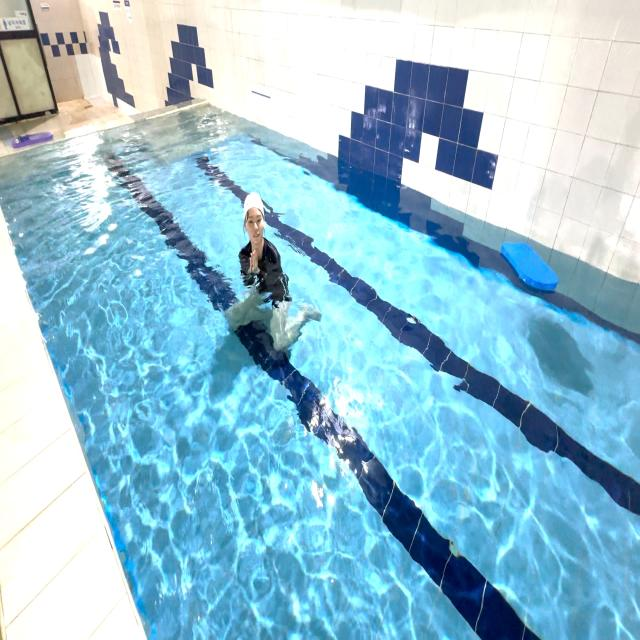Swimming: (208, 173, 333, 394)
